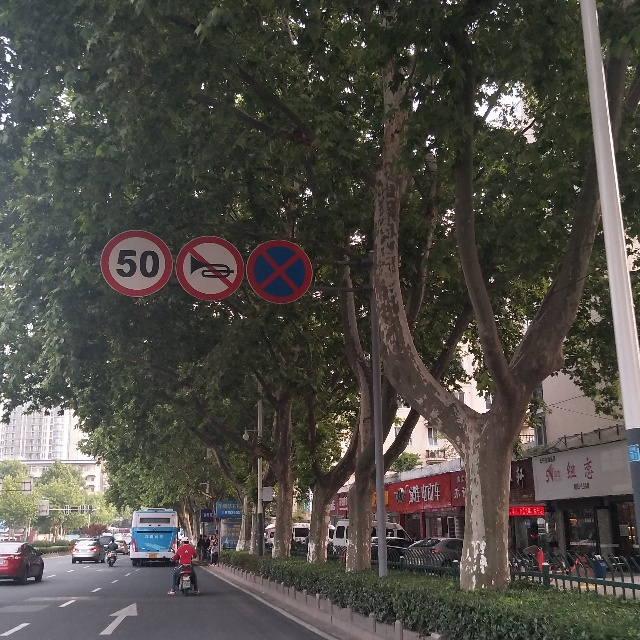nohonk: (175, 236, 245, 302)
stop: (247, 241, 314, 304)
